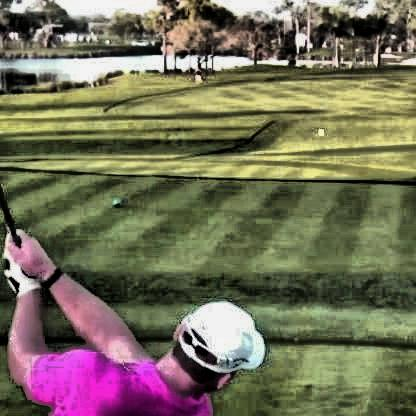golfball: (314, 126, 323, 135)
